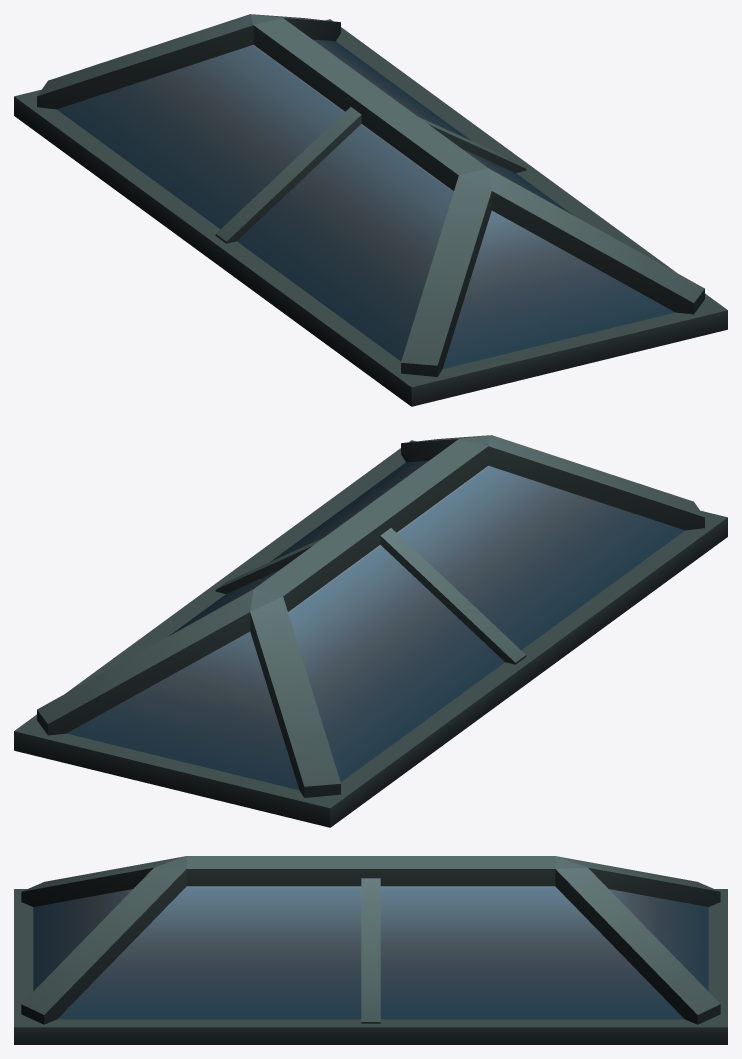
File: Skylight_1A.fbx
The picture shows the model from 3 angles, top to bottom: view 1: azimuth 30°, elevation 25°; view 2: azimuth 150°, elevation 25°; view 3: azimuth 270°, elevation 25°; orthographic projection. The views are drawn at different scales.
Visible parts, largest first — view 1: Skylight_1A; view 2: Skylight_1A; view 3: Skylight_1A.
Boxes of the visible parts, box(x1,y1,x2,y2) form: Skylight_1A: box(14, 14, 727, 406); Skylight_1A: box(14, 435, 727, 827); Skylight_1A: box(14, 856, 727, 1044).
Bounding box in the file's own units: 340 × 129 × 740.
